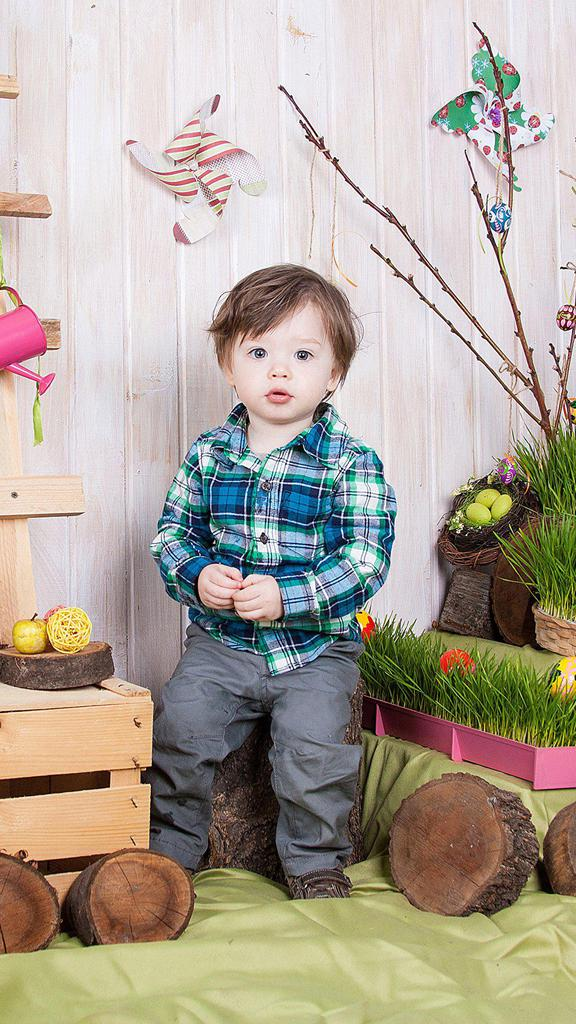child: (120, 246, 398, 916)
